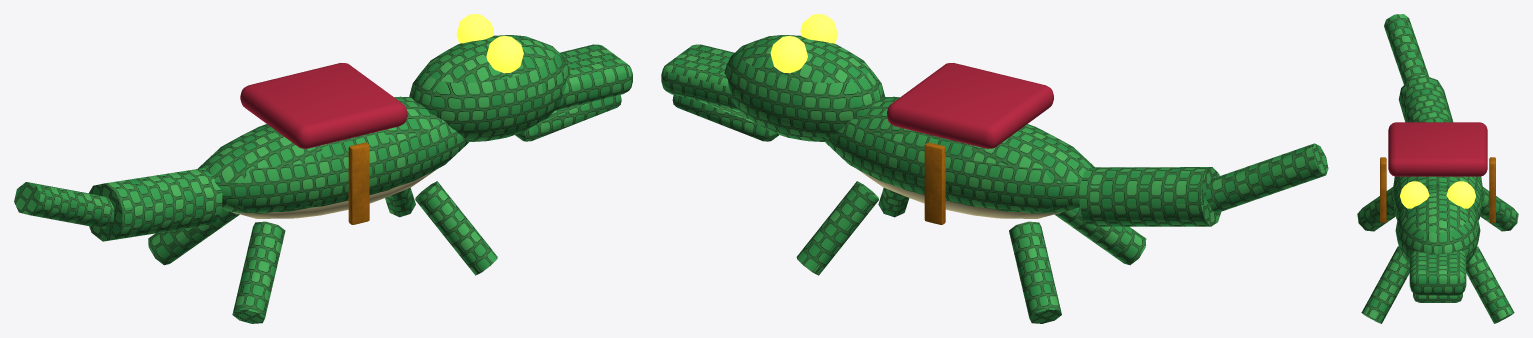
File: carousel-gator.glb
3 views of the same model, side by side, from view 1: azimuth 30°, elevation 25°; view 2: azimuth 150°, elevation 25°; view 3: azimuth 270°, elevation 25° (orthographic). The views are drawn at different scales.
Parts seen in each view (by area): view 1: carousel-gator; view 2: carousel-gator; view 3: carousel-gator.
Boxes of the visible parts, box(x1,y1,x2,y2) form: carousel-gator: box(14, 14, 632, 323); carousel-gator: box(661, 14, 1328, 323); carousel-gator: box(1357, 14, 1518, 323).
Bounding box in the file's own units: 3.39 × 1.07 × 0.9722.
Materials: 5 (2 with a texture image).
